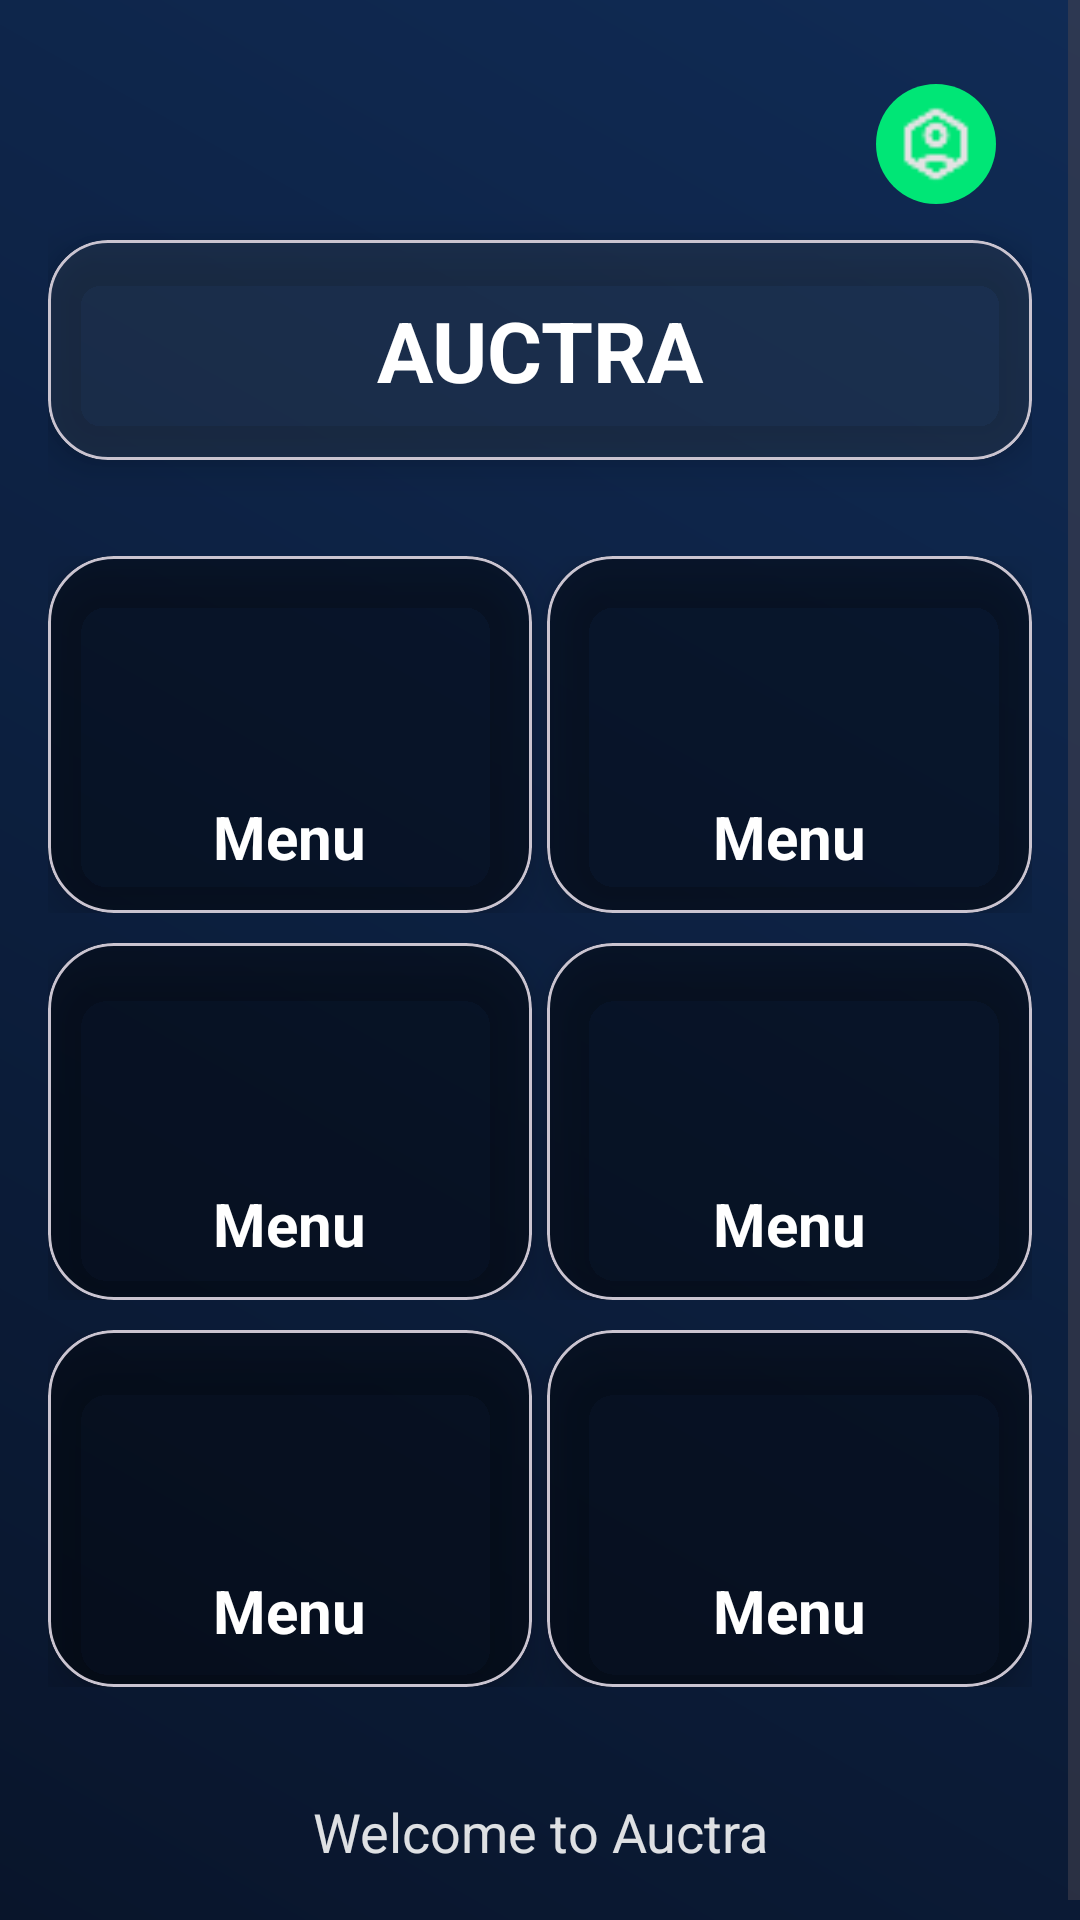

Named icons in this screenshot (1080px x 1920px) and their centers, (x,y):
adminicon: (936,144)
